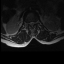CCS_normal: (30, 20, 33, 28)
LFS_stenosis: (35, 20, 36, 25)
LLS_normal: (33, 21, 34, 26)
RFS_severe_stenosis: (26, 21, 29, 26)
RLS_normal: (29, 21, 30, 26)
